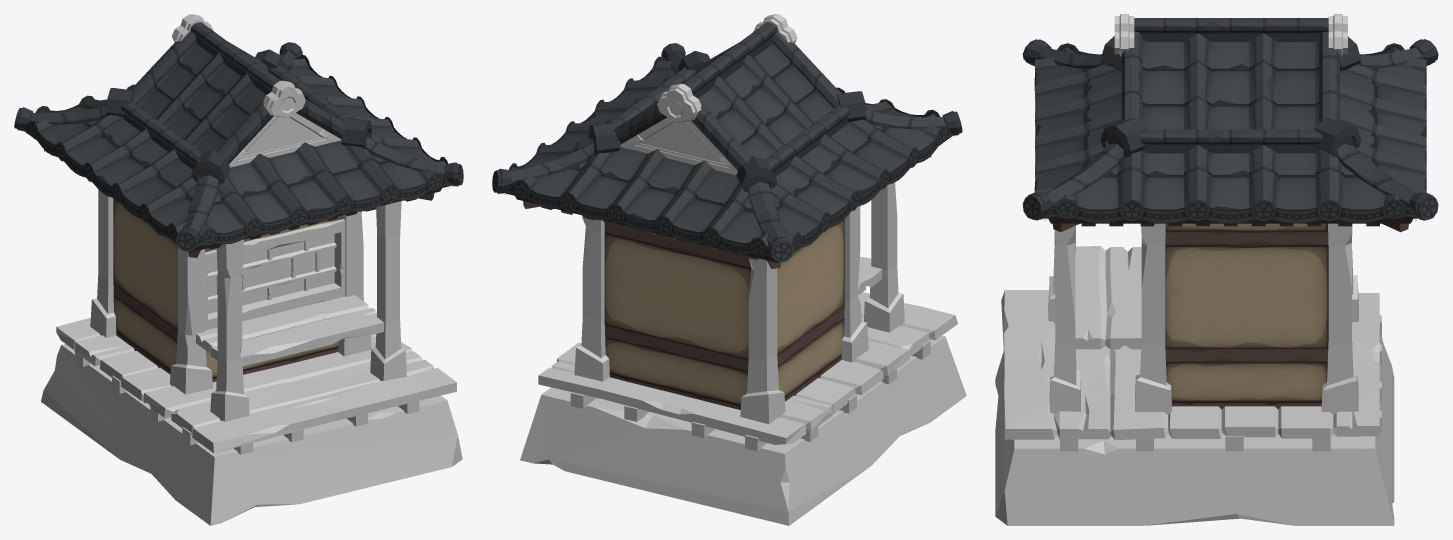
The model's file is SM_Bld_Shrine_01.fbx.
3 views of the same model, side by side, from view 1: azimuth 30°, elevation 25°; view 2: azimuth 150°, elevation 25°; view 3: azimuth 270°, elevation 25° (orthographic). The views are drawn at different scales.
Parts seen in each view (by area): view 1: SM_Bld_Shrine_01; view 2: SM_Bld_Shrine_01; view 3: SM_Bld_Shrine_01.
Boxes of the visible parts, box(x1,y1,x2,y2) form: SM_Bld_Shrine_01: box(14, 14, 463, 525); SM_Bld_Shrine_01: box(492, 14, 966, 525); SM_Bld_Shrine_01: box(995, 14, 1438, 525).
Bounding box in the file's own units: 281 × 347 × 319.
